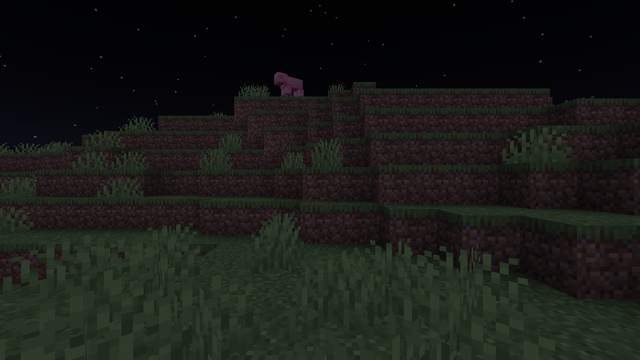cochons: (281, 75, 300, 95)
